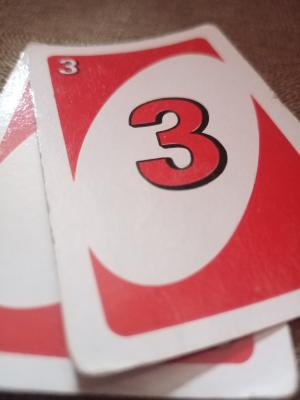num_3: (55, 50, 84, 82)
